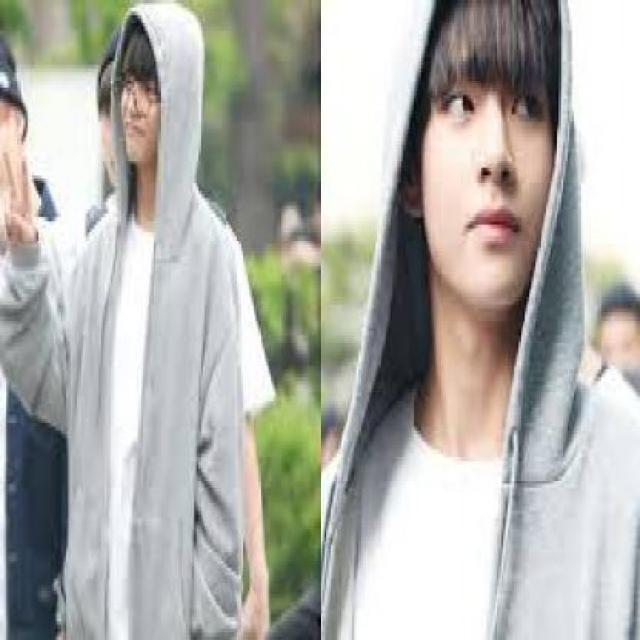glasses: (112, 58, 154, 118)
